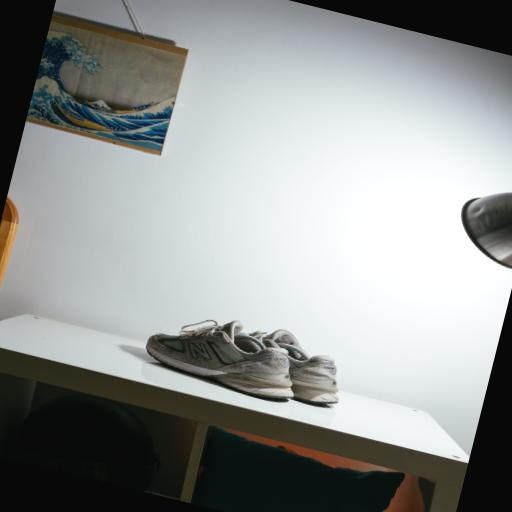shoe: (146, 321, 293, 398), (253, 330, 338, 403)
